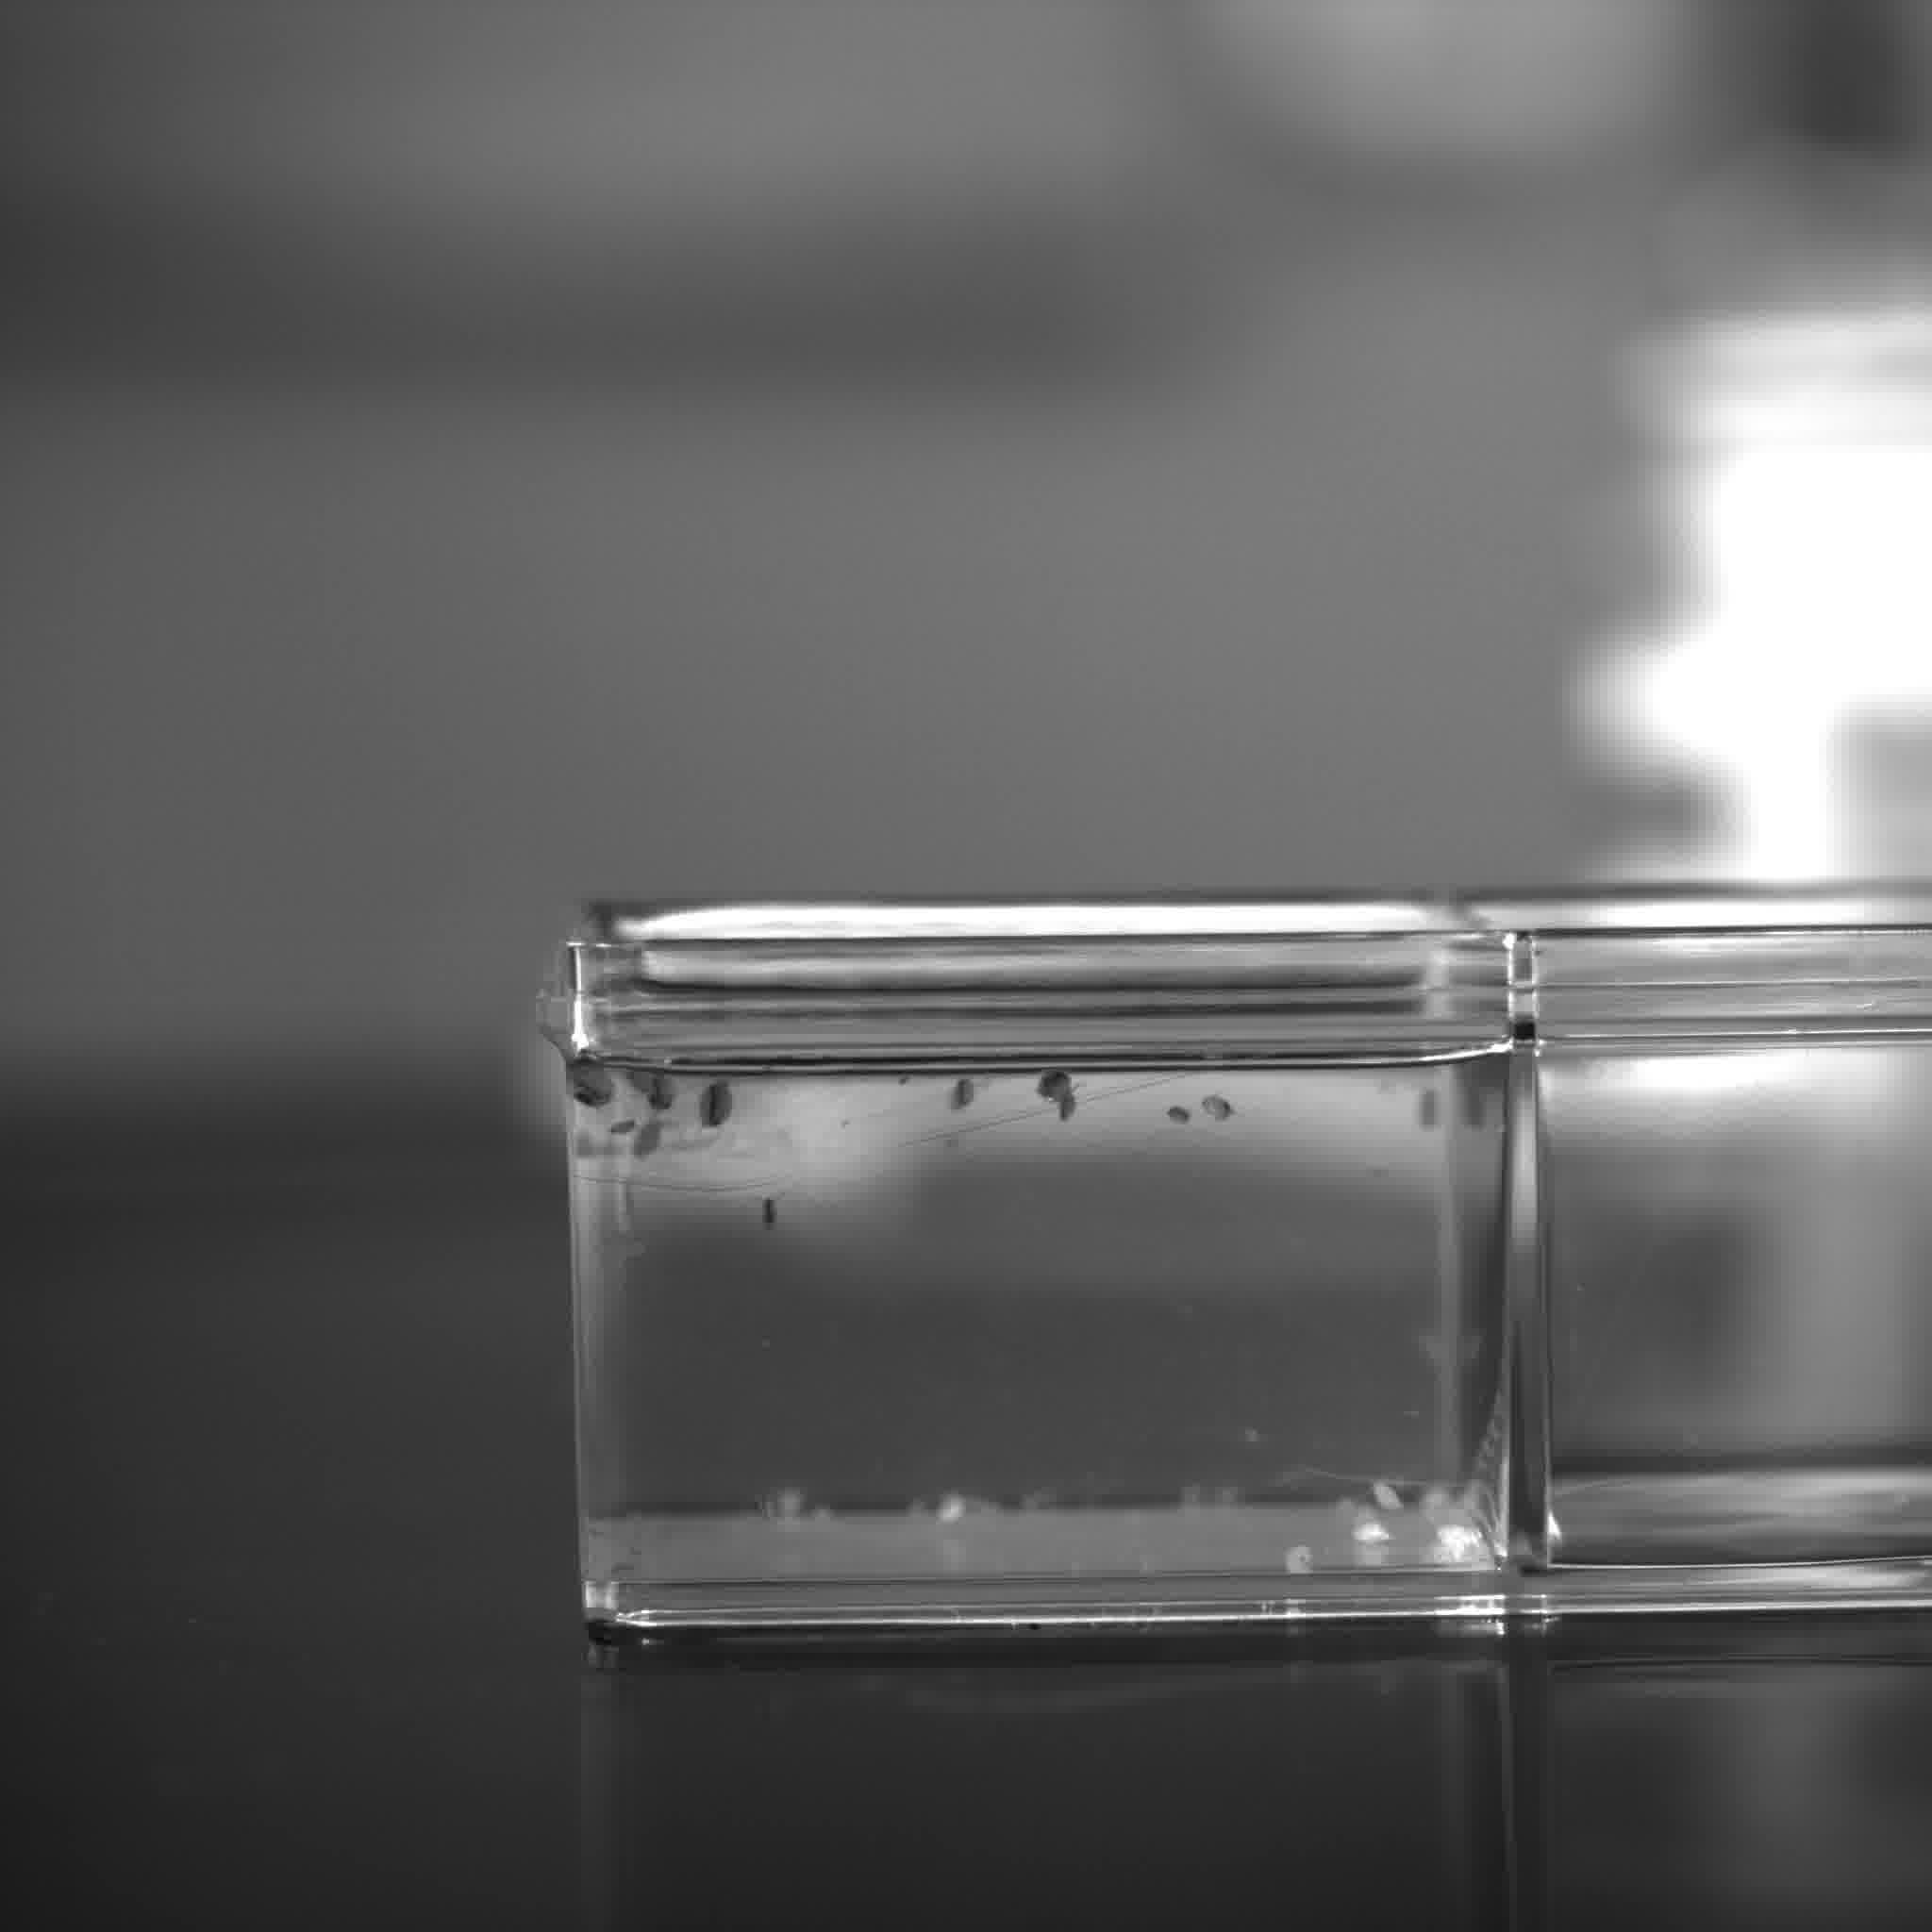Daphnia: (694, 1077, 734, 1141), (568, 1063, 619, 1106), (637, 1113, 679, 1161), (952, 1074, 991, 1125), (747, 1192, 791, 1237), (649, 1067, 686, 1115), (1060, 1077, 1090, 1132), (1039, 1063, 1076, 1106), (1196, 1090, 1249, 1118), (1414, 1088, 1442, 1125), (633, 1067, 656, 1111), (1166, 1102, 1194, 1125), (612, 1123, 637, 1136)
